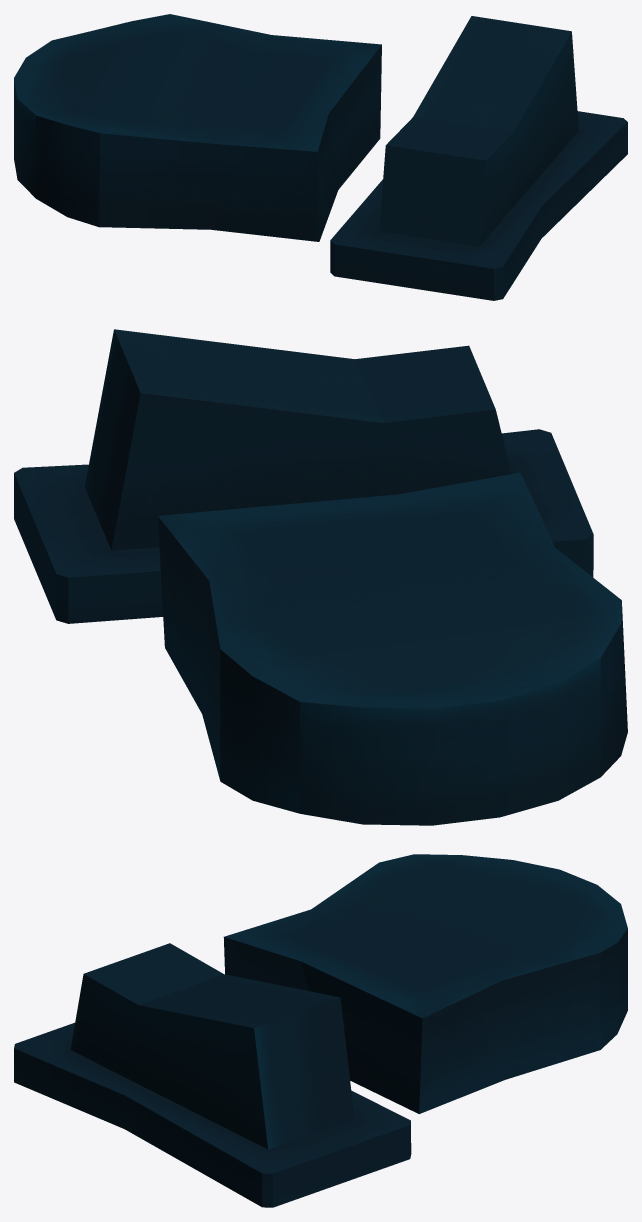
File: gravestone01.FBX
The picture shows the model from 3 angles, top to bottom: view 1: azimuth 30°, elevation 25°; view 2: azimuth 150°, elevation 25°; view 3: azimuth 270°, elevation 25°; orthographic projection. The views are drawn at different scales.
Visible parts, largest first — view 1: gravestone01, Cylinder002; view 2: gravestone01, Cylinder002; view 3: gravestone01, Cylinder002.
Boxes of the visible parts, x1,y1,x2,y2 form: gravestone01: [14, 14, 381, 241]; Cylinder002: [330, 16, 627, 300]; gravestone01: [158, 472, 627, 825]; Cylinder002: [14, 329, 593, 623]; gravestone01: [223, 854, 627, 1113]; Cylinder002: [14, 943, 411, 1207].
Bounding box in the file's own units: 18.5 × 4.98 × 18.69.
